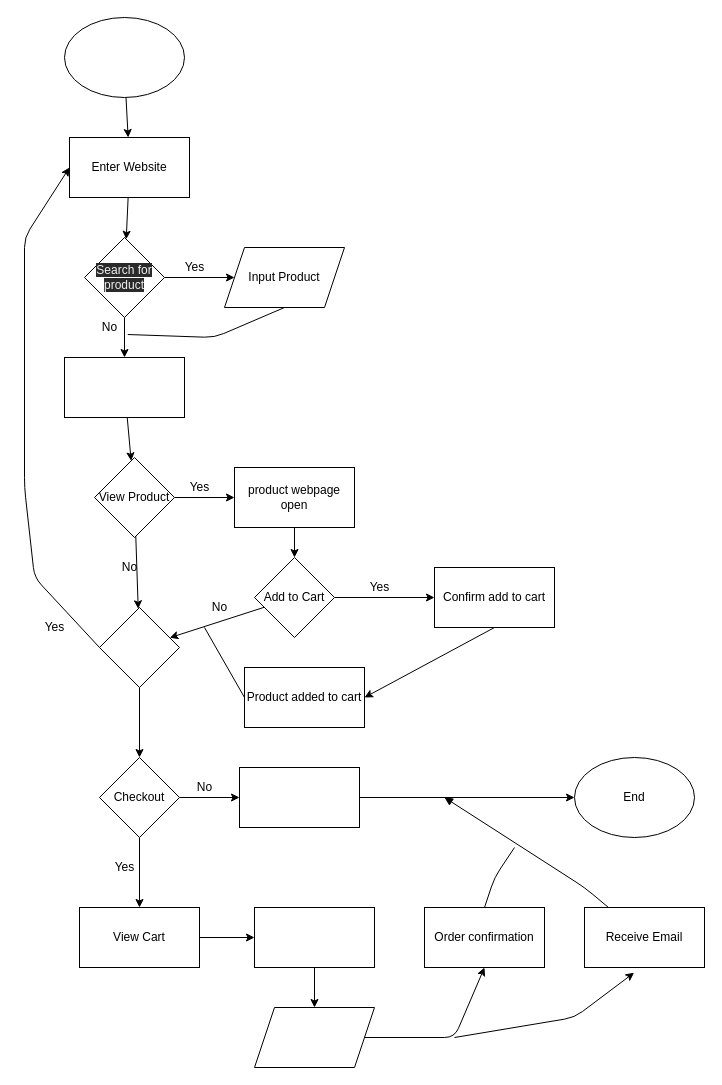
This 722x1085 diagram has some shape labels left out. Each missing label, with the centre of its shape:
browse products: point 124,387
Continue Shopping: point 139,647
Input payment: point 314,1037
Leave Website: point 299,797
Start: point 124,57
View Payment: point 314,937
